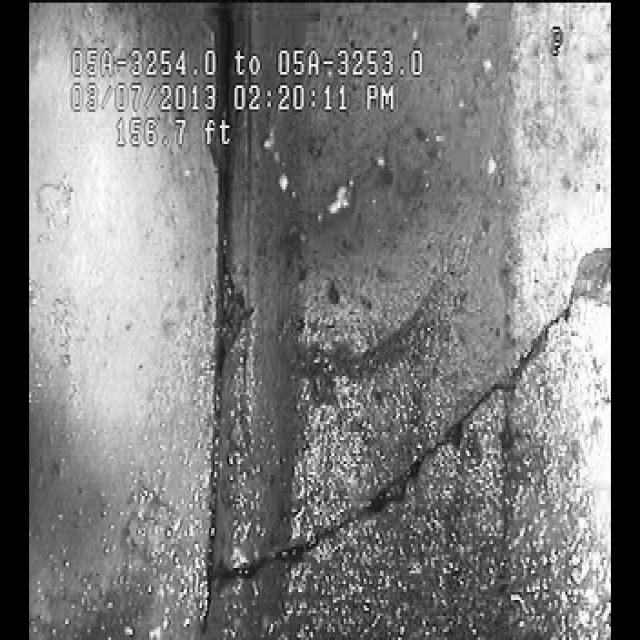Crack: (248, 308, 573, 576)
